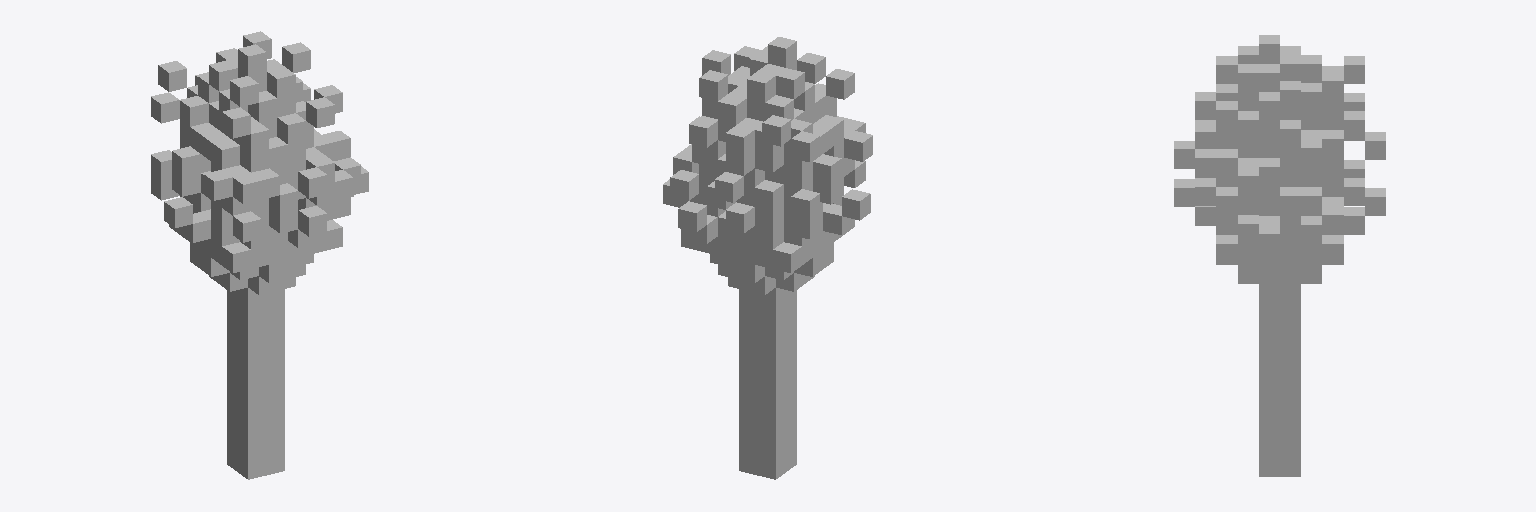
The model's file is torch 1.obj.
3 renders of one model, left to right at view 1: azimuth 30°, elevation 25°; view 2: azimuth 150°, elevation 25°; view 3: azimuth 270°, elevation 25°, orthographic.
Parts seen in each view (by area): view 1: object 1; view 2: object 1; view 3: object 1.
Boxes of the visible parts, x1=… form: object 1: x1=151, y1=31, x2=368, y2=479; object 1: x1=663, y1=37, x2=872, y2=479; object 1: x1=1174, y1=35, x2=1385, y2=476.
Size of the model in its own units: 1 by 2.2 by 1.